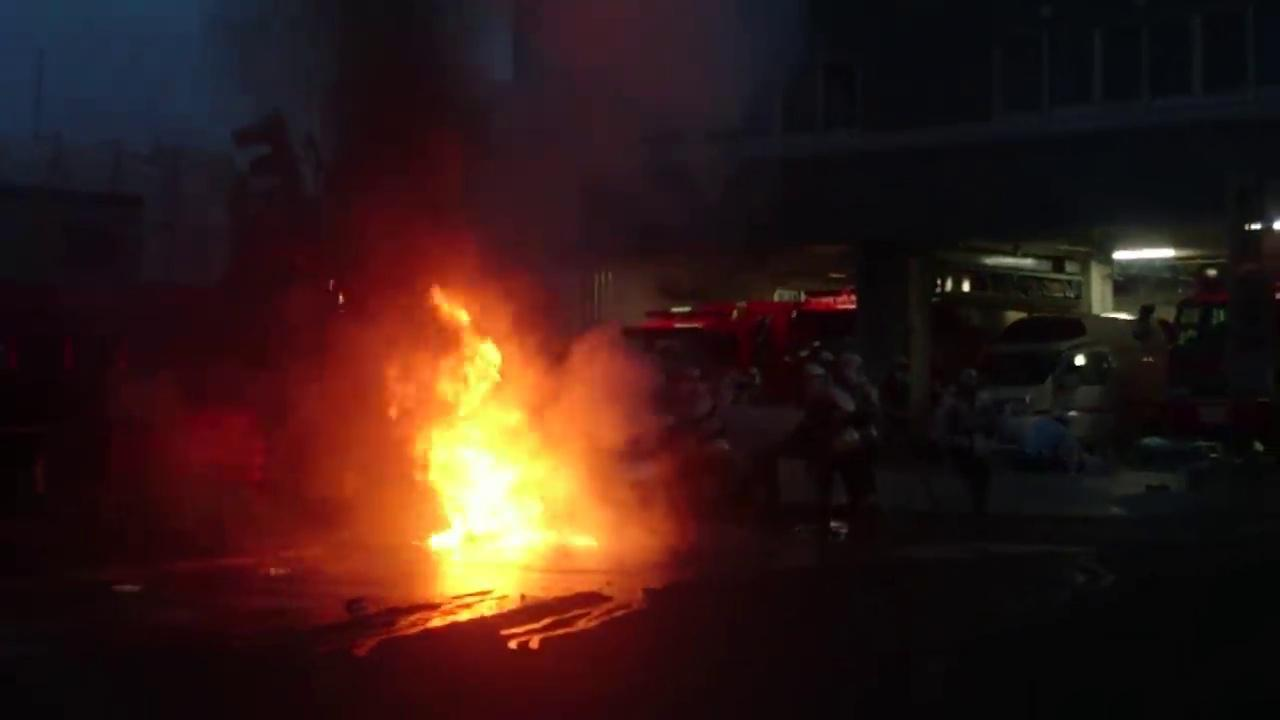Fire: (416, 287, 621, 556)
